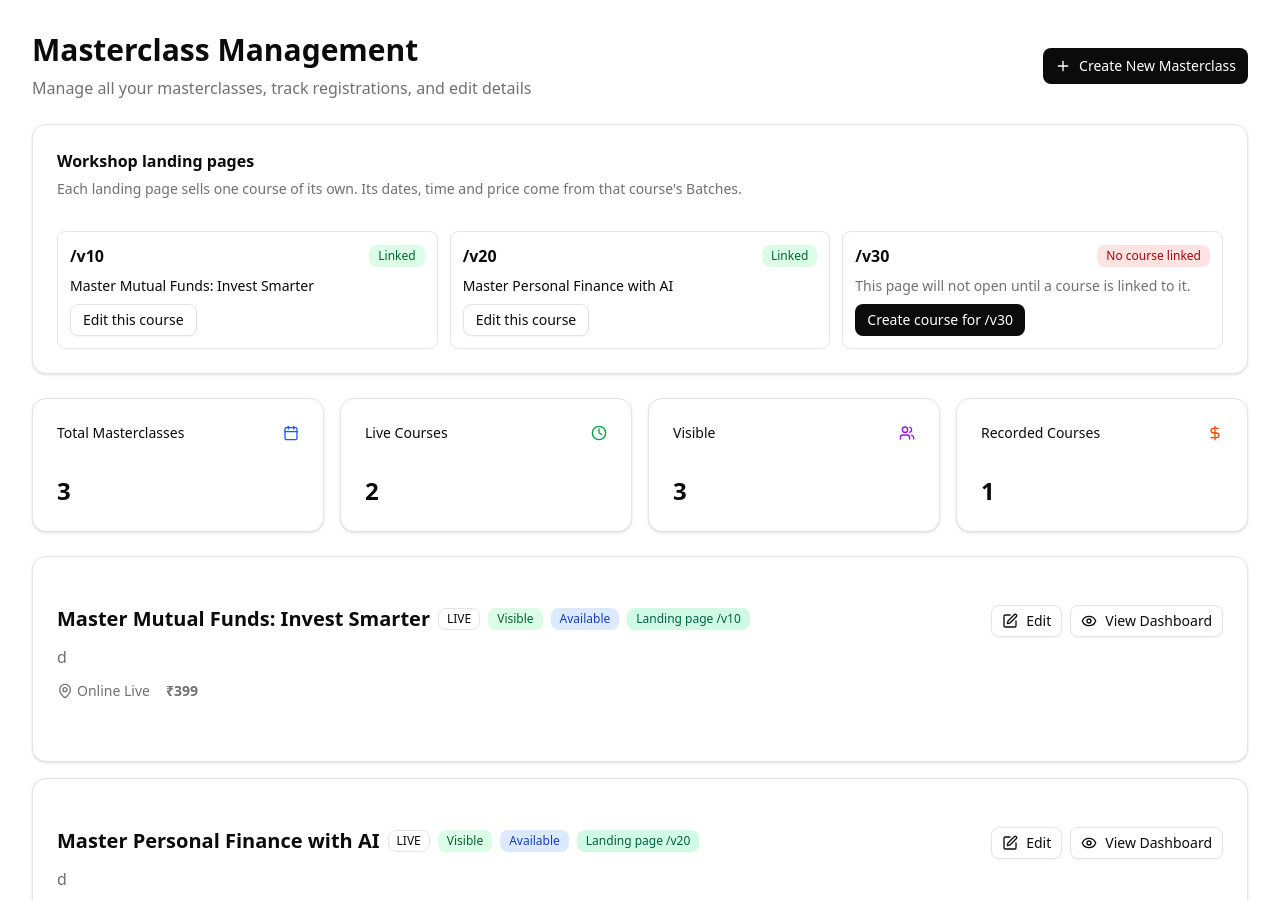
Scenario: Masterclasses: workshop landing pages › the edit form of the v10 course has /v10 selected
What coordinates should you click on to do the following:
click the 1st button "Edit this course"
I would click on:
 (133, 320)
Its box is [70,304,197,336].
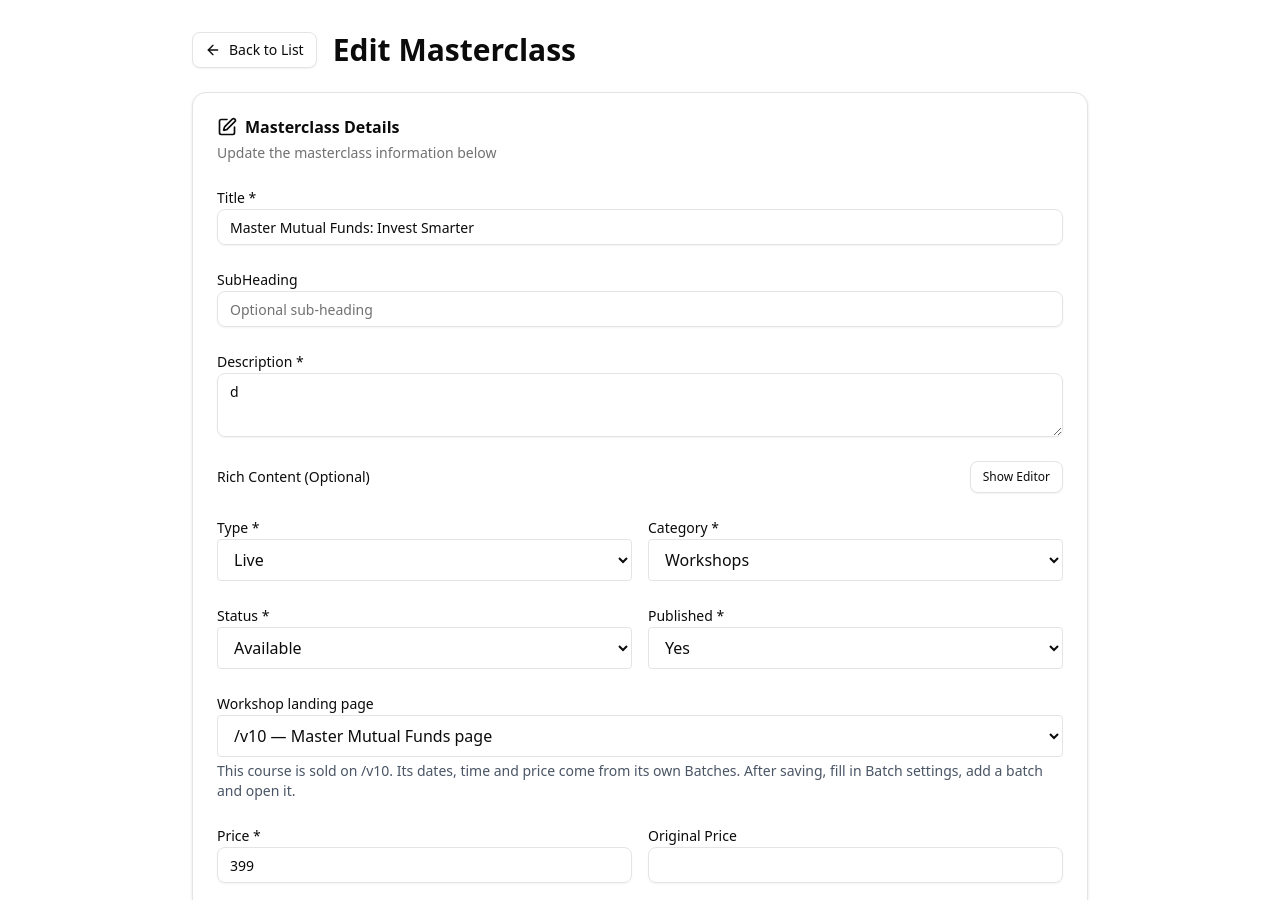
Expected: the dropdown with test id "landing-page-select" shows "/v10 — Master Mutual Funds page", [217,715,1063,757]
